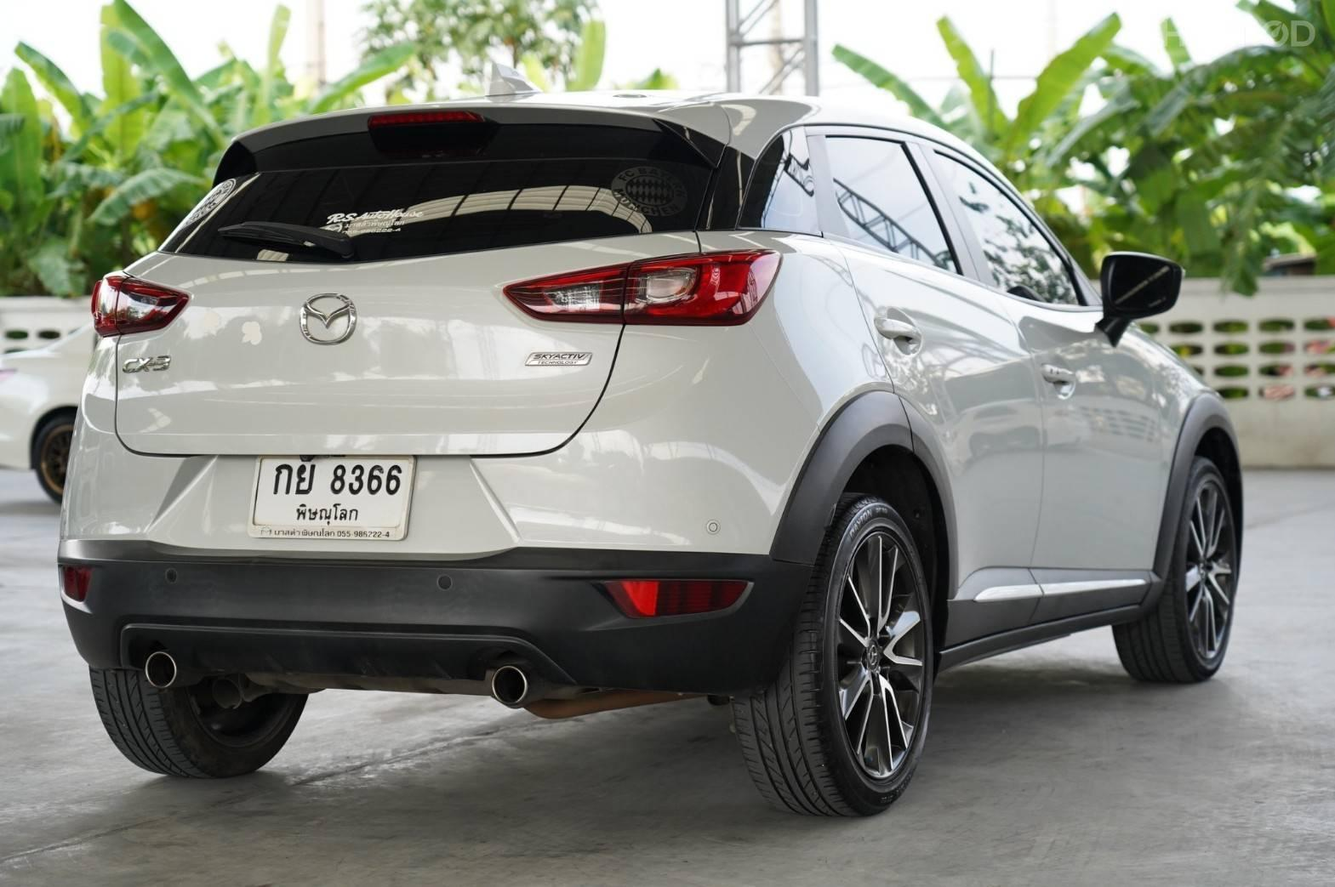license-plate: (251, 452, 415, 542)
